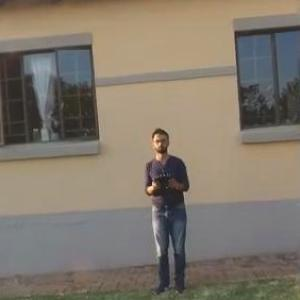follow: (141, 123, 198, 299)
